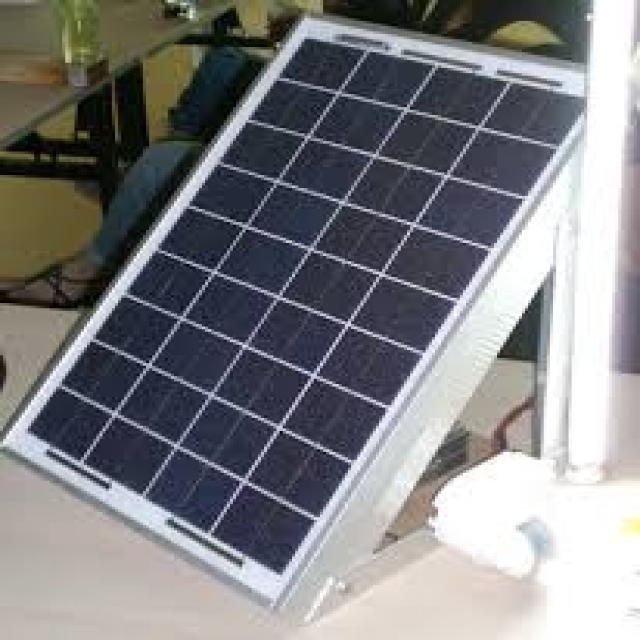no faulty: (27, 26, 596, 581)
